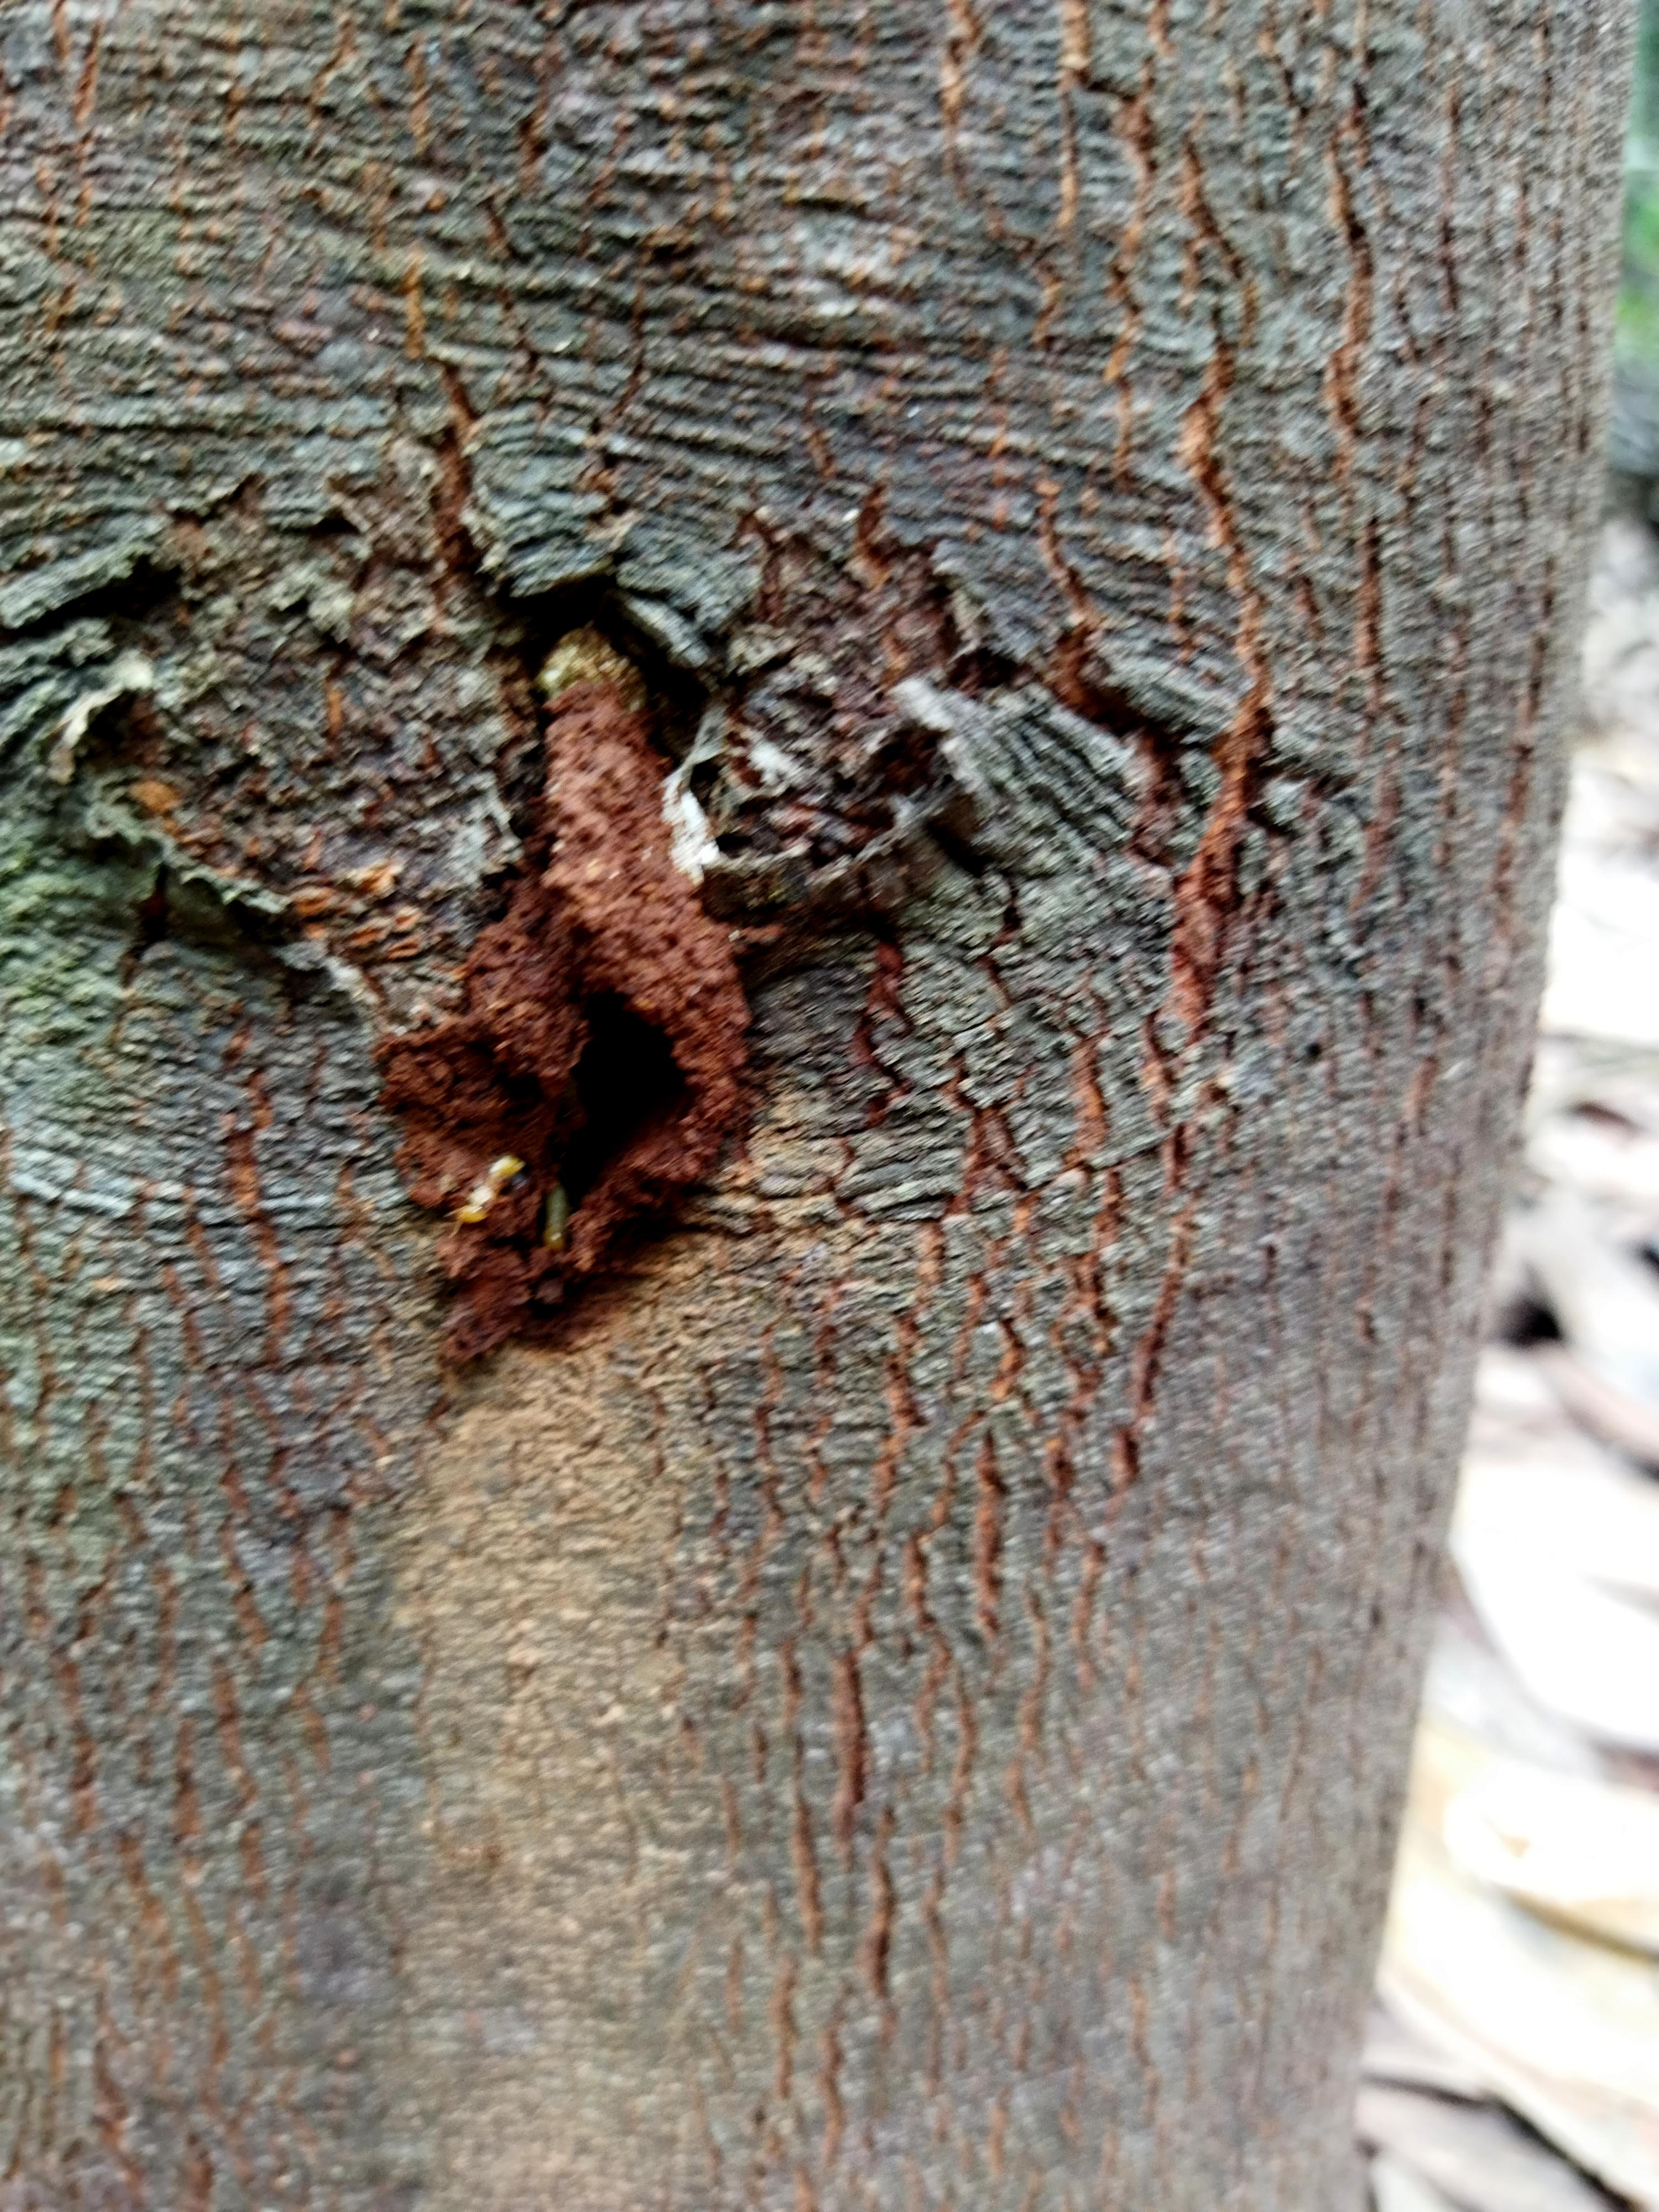Termite - Nest: (404, 582, 749, 1416)
